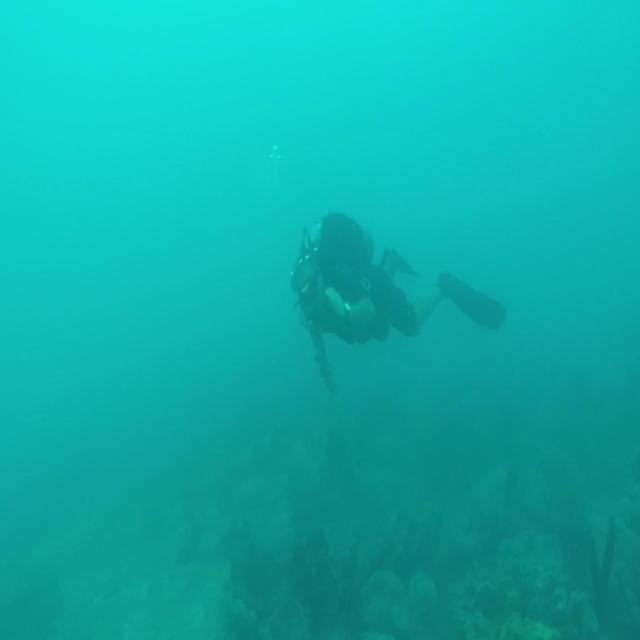human: (290, 210, 507, 392)
